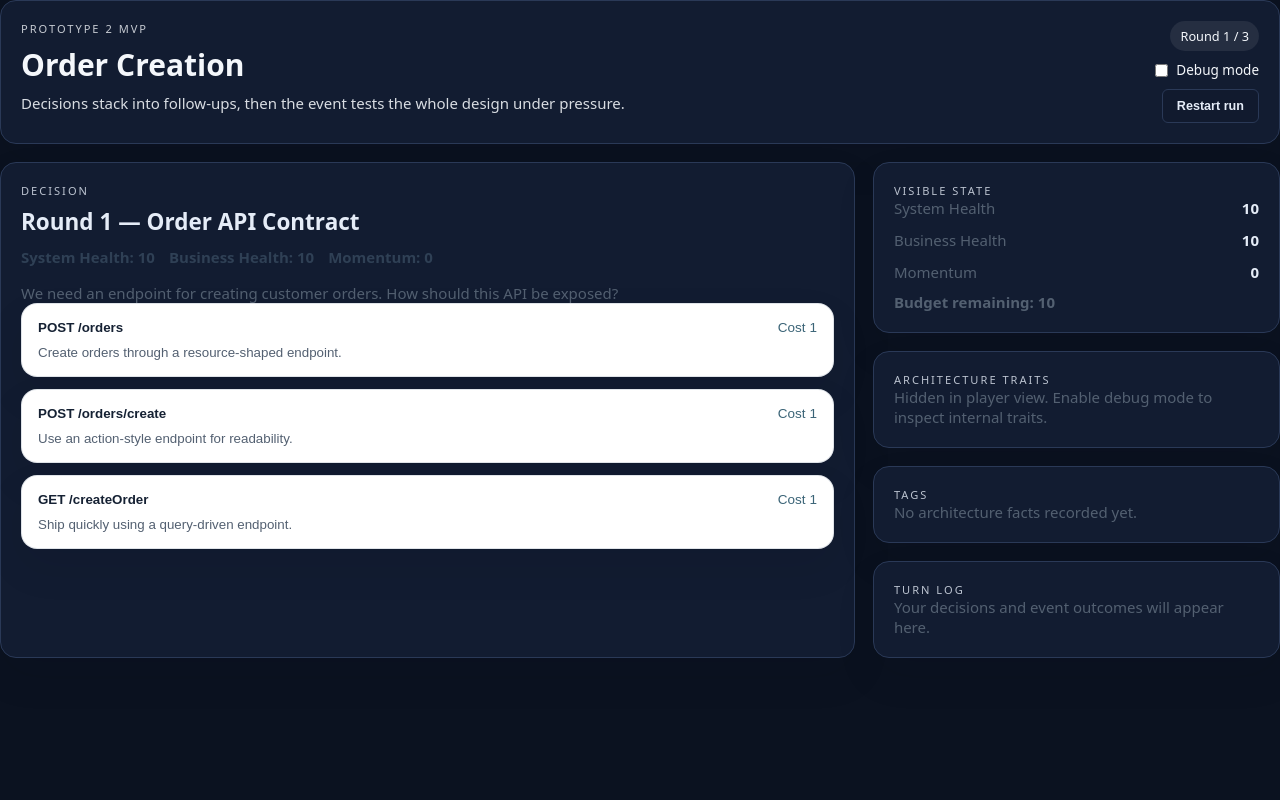
it: SimulationScreen › shows hidden trait deltas only in debug mode
Step 1. Click the checkbox labelled "Debug mode" → (1162, 70), box [1155, 64, 1168, 76]
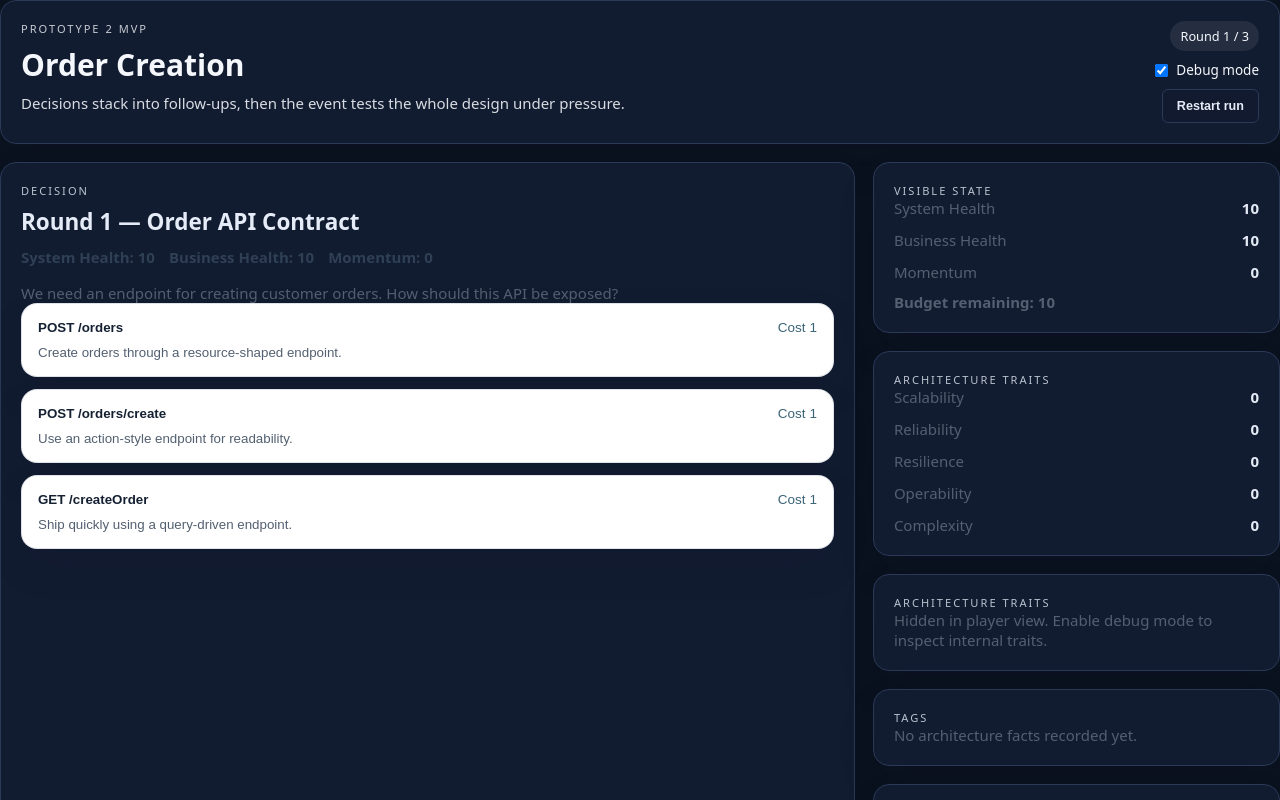
Step 2. Click the button with aria-label "post-orders" → (81, 328), box [21, 303, 834, 377]
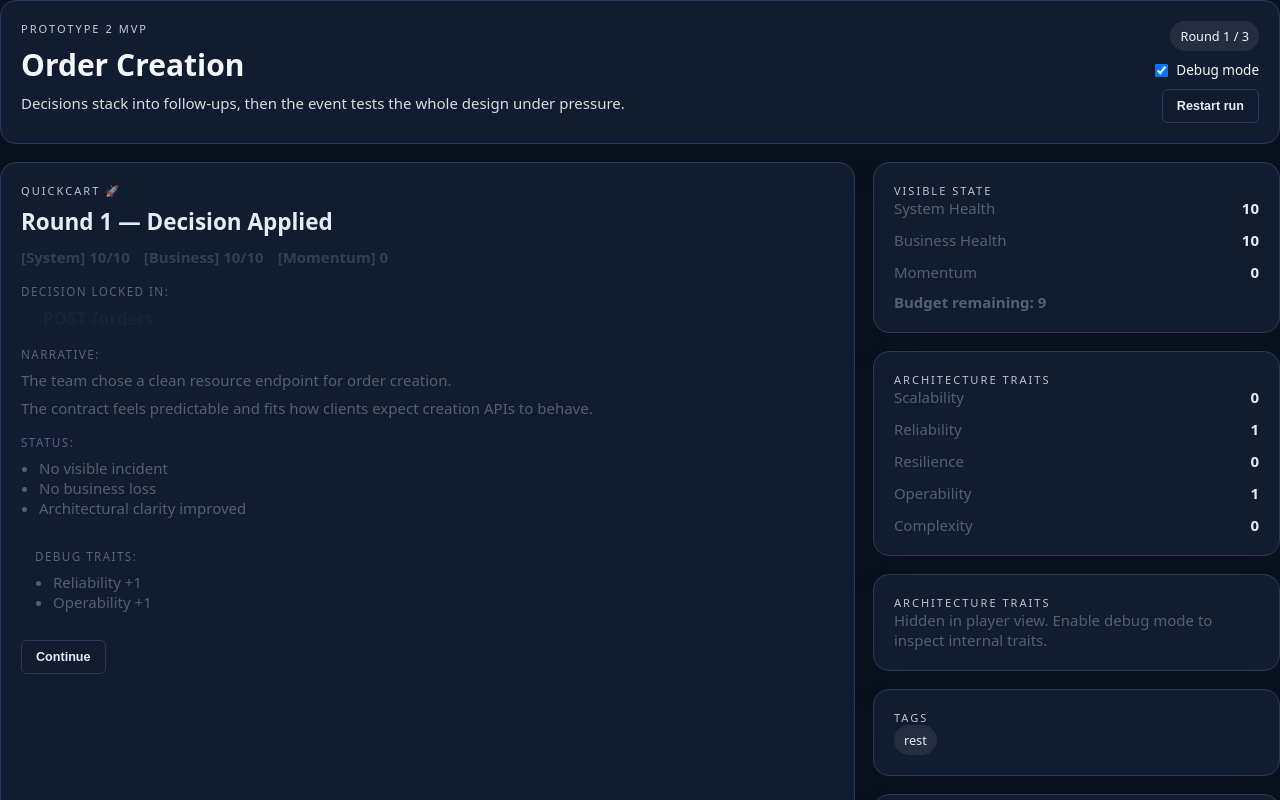
Check: the list item "Reliability +1" is shown, box [53, 572, 142, 592]
Check: the list item "Operability +1" is shown, box [53, 592, 152, 612]
